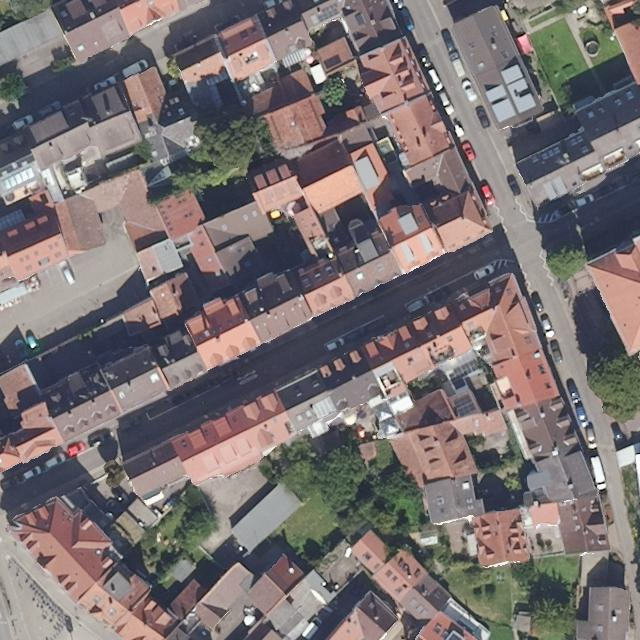PV: (1, 166, 36, 191), (311, 395, 338, 419), (316, 2, 340, 23)
